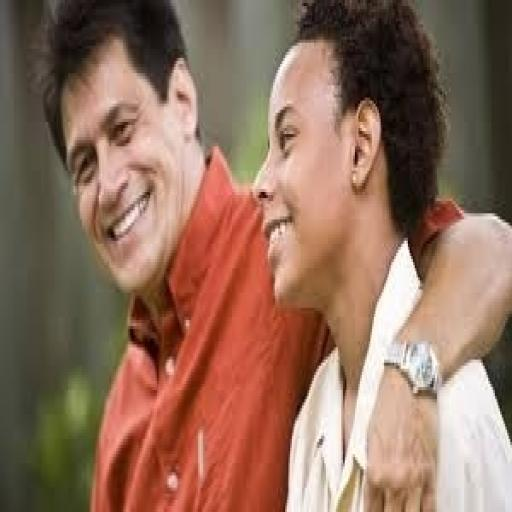hugging: (32, 0, 510, 509)
